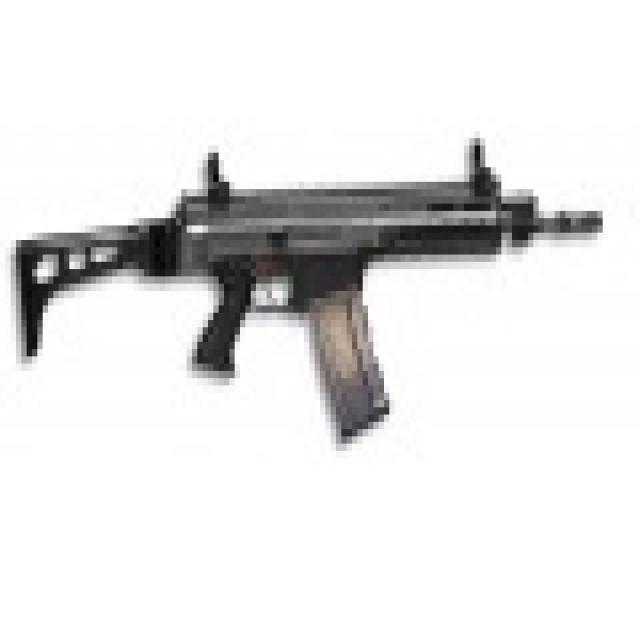Gun: (25, 132, 616, 451)
